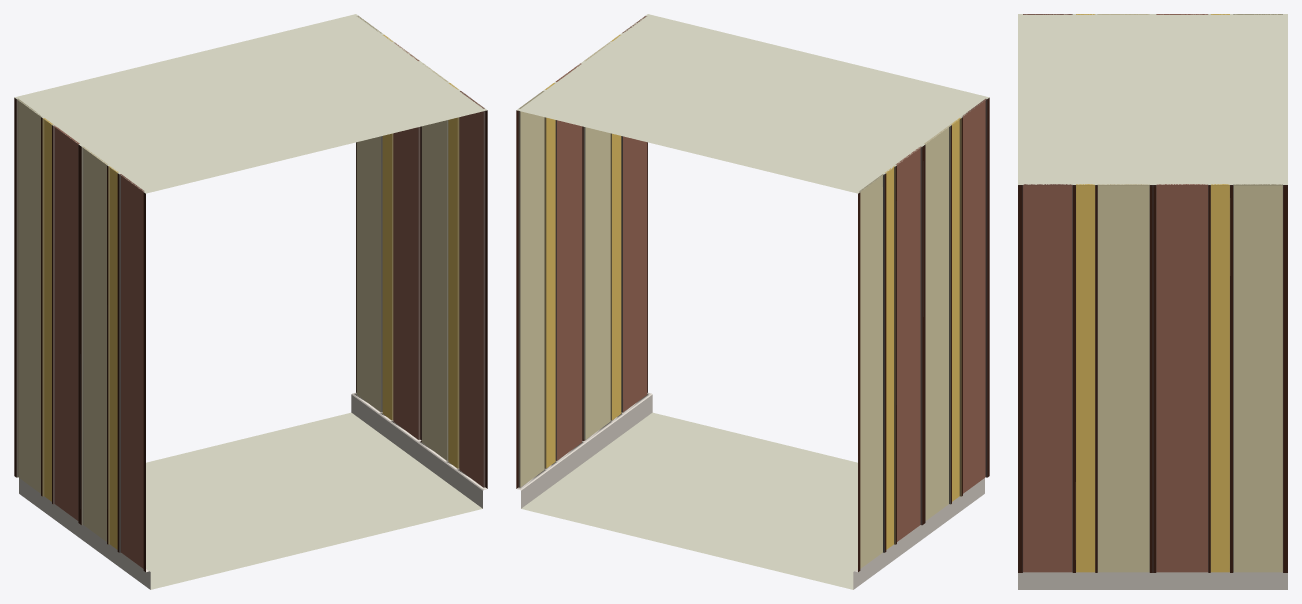
Rendered from Wall Straight (Untextured).fbx.
3 views of the same model, side by side, from view 1: azimuth 30°, elevation 25°; view 2: azimuth 150°, elevation 25°; view 3: azimuth 270°, elevation 25° (orthographic). The views are drawn at different scales.
Parts seen in each view (by area): view 1: wall_Stright_5; view 2: wall_Stright_5; view 3: wall_Stright_5.
Boxes of the visible parts, x1,y1,x2,y2 form: wall_Stright_5: (14,14,487,589); wall_Stright_5: (516,14,989,589); wall_Stright_5: (1018,14,1287,589).
Size of the model in its own units: 338 by 375 by 225.
